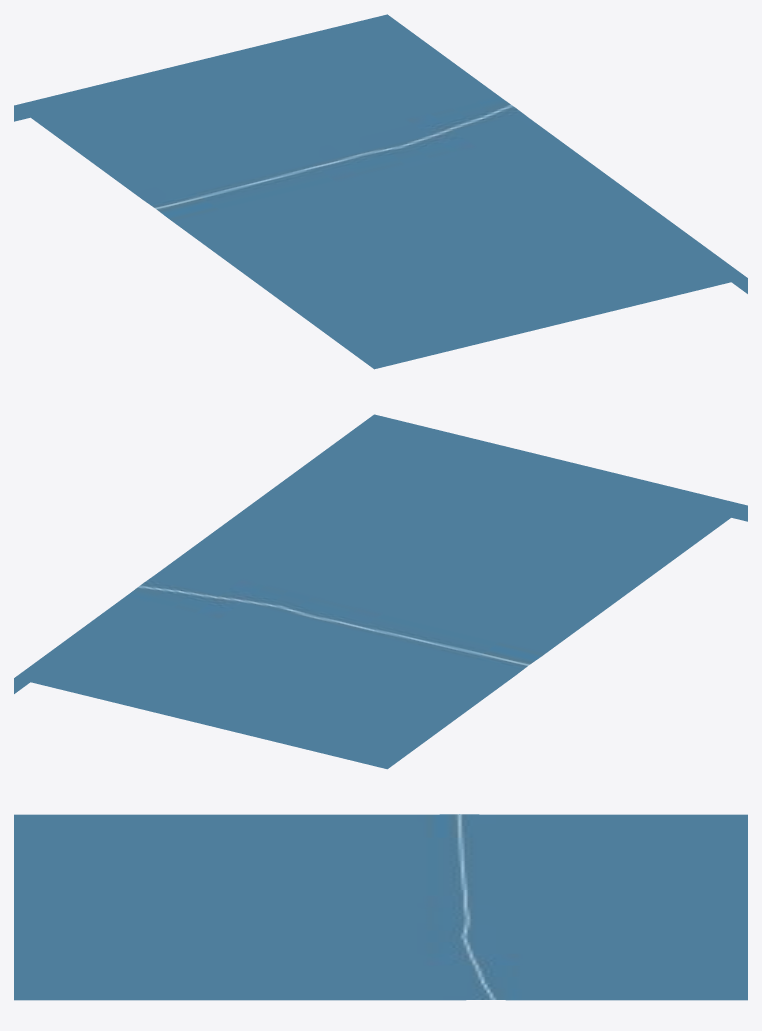
3 views of the same model, one above another, from view 1: azimuth 30°, elevation 25°; view 2: azimuth 150°, elevation 25°; view 3: azimuth 270°, elevation 25° (orthographic).
Size of the model in its own units: 1464 by 62.54 by 2445.
1 material, 1 textured.
